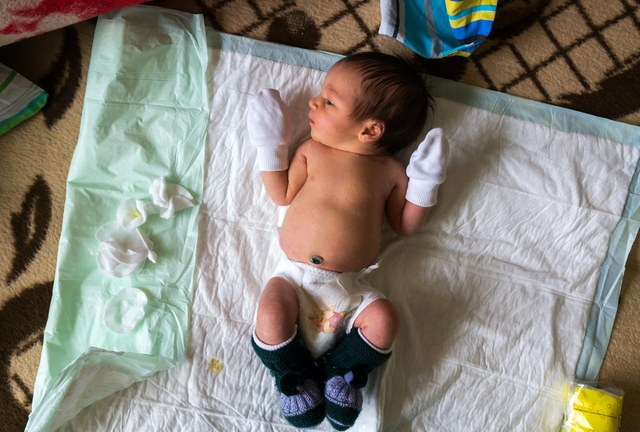Himalaya Baby Powder: (32, 22, 608, 410)
